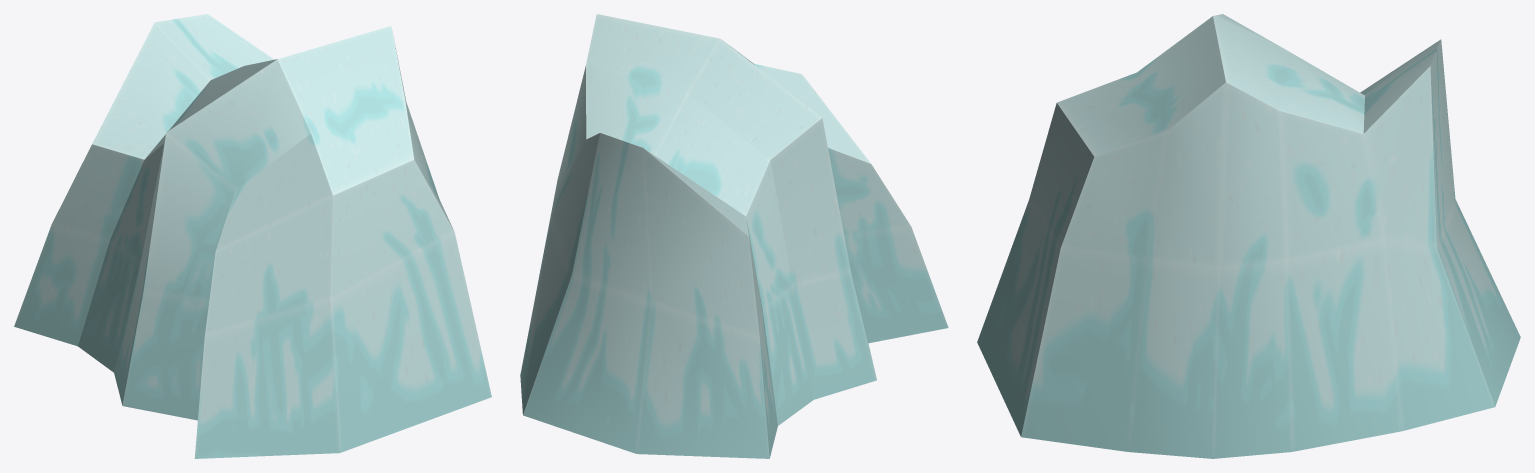
Rendered from env_Ice_Cliff_A.FBX.
3 renders of one model, left to right at view 1: azimuth 30°, elevation 25°; view 2: azimuth 150°, elevation 25°; view 3: azimuth 270°, elevation 25°, orthographic. The views are drawn at different scales.
Parts seen in each view (by area): view 1: env_Ice_Cliff_A; view 2: env_Ice_Cliff_A; view 3: env_Ice_Cliff_A.
Part boxes in pixels (x1,y1,x2,y2): env_Ice_Cliff_A: (14, 14, 491, 458); env_Ice_Cliff_A: (520, 14, 948, 458); env_Ice_Cliff_A: (977, 14, 1520, 458).
Bounding box in the file's own units: 1287 × 1163 × 1640.
